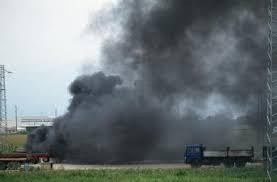smoke: (21, 0, 277, 164)
